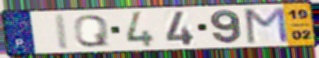4: (164, 9, 198, 47), (124, 10, 157, 49)
9: (208, 8, 244, 45)
I: (53, 13, 71, 52)
M: (243, 6, 291, 45)
Q: (72, 14, 111, 48)
